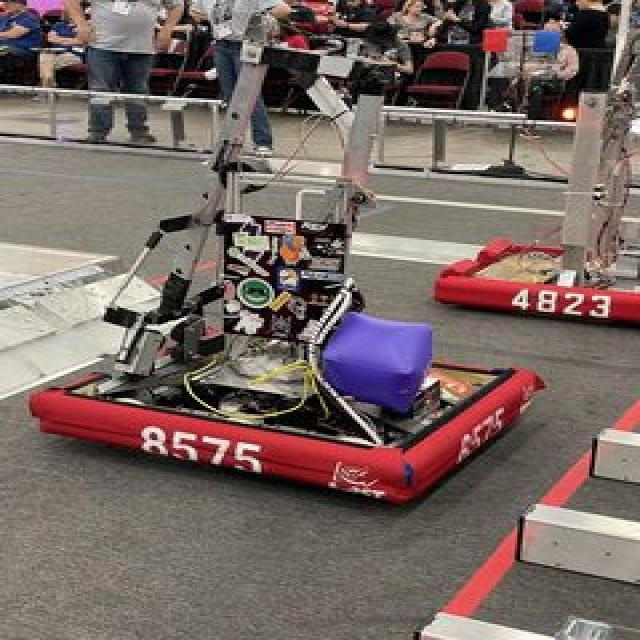robot: (0, 18, 544, 502), (458, 0, 632, 344)
